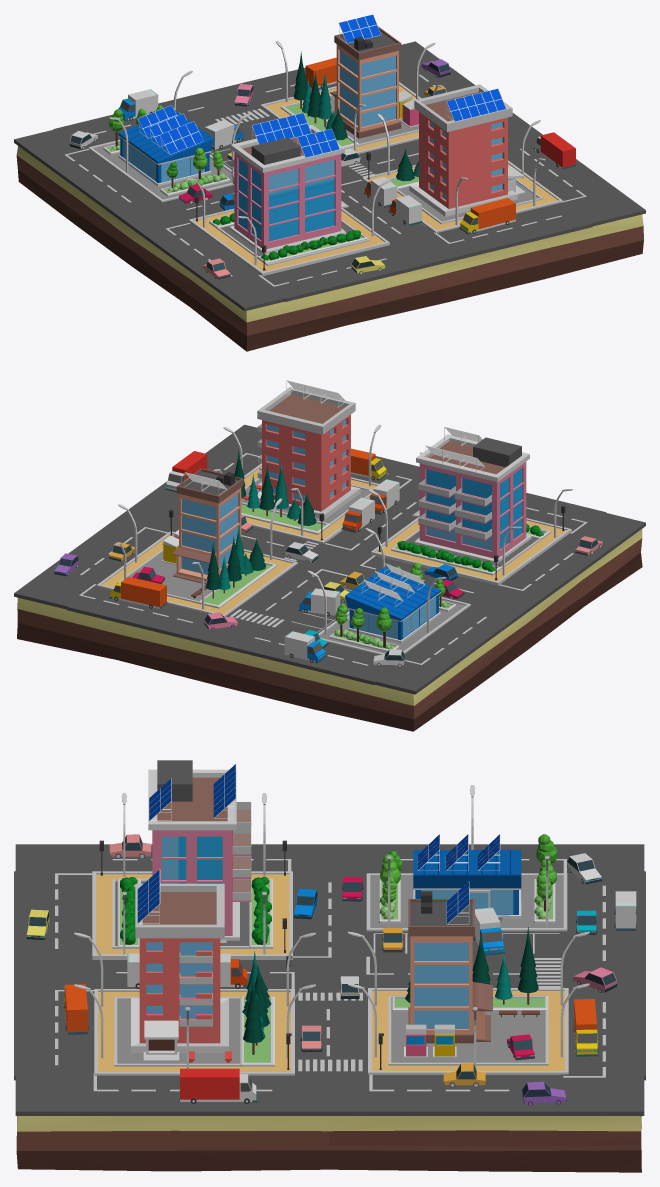
File: city.glb
3 views of the same model, one above another, from view 1: azimuth 30°, elevation 25°; view 2: azimuth 150°, elevation 25°; view 3: azimuth 270°, elevation 25° (orthographic). The views are drawn at different scales.
Parts seen in each view (by area): view 1: Camera_3-PBR (×2); view 2: Camera_3-PBR (×2); view 3: Camera_3-PBR (×2).
Boxes of the visible parts, x1=… form: Camera_3-PBR (×2): x1=14, y1=26, x2=645, y2=351; Camera_3-PBR (×2): x1=14, y1=387, x2=645, y2=731; Camera_3-PBR (×2): x1=14, y1=760, x2=645, y2=1172.
Size of the model in its own units: 21.92 by 7.93 by 21.92.
3 materials, 1 textured.
